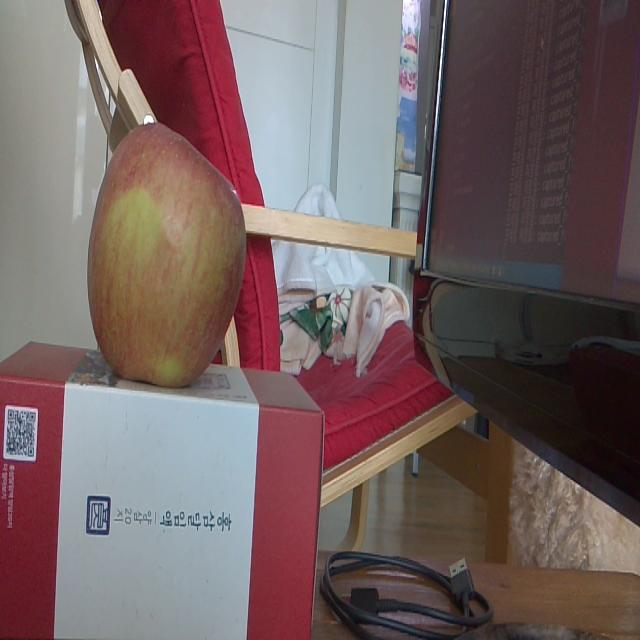apple: (87, 122, 246, 380)
